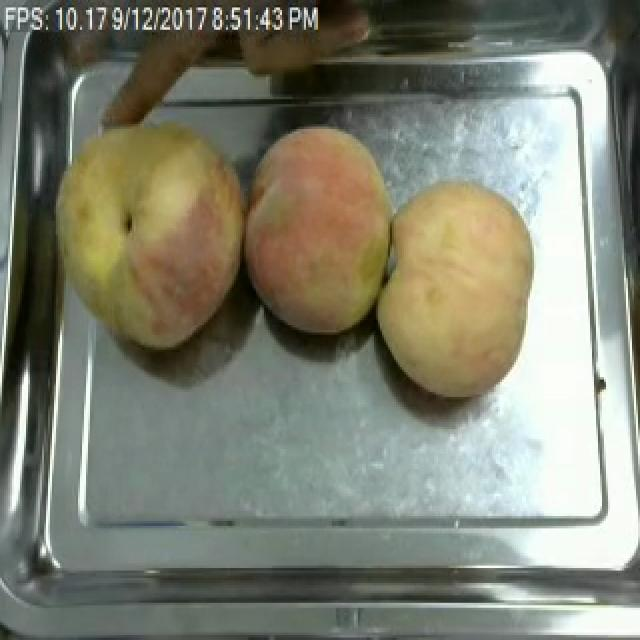Fruit: (38, 102, 256, 362), (366, 172, 544, 404), (238, 114, 406, 342)
